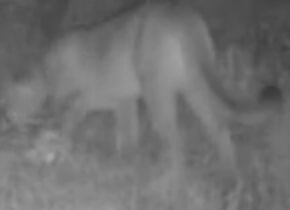Mountain Lion: (6, 7, 284, 190)
